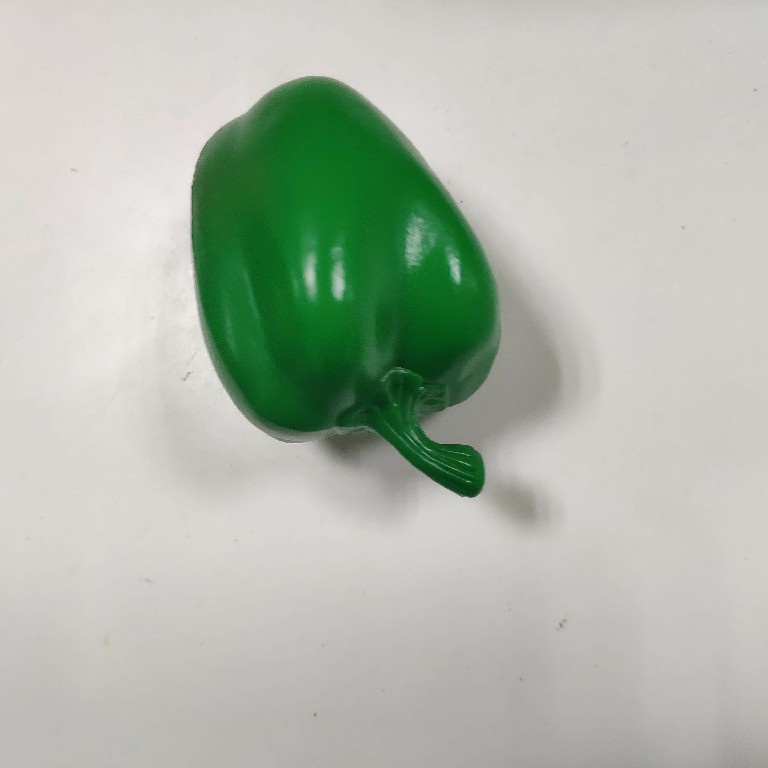fruit_pepper: (185, 70, 509, 502)
